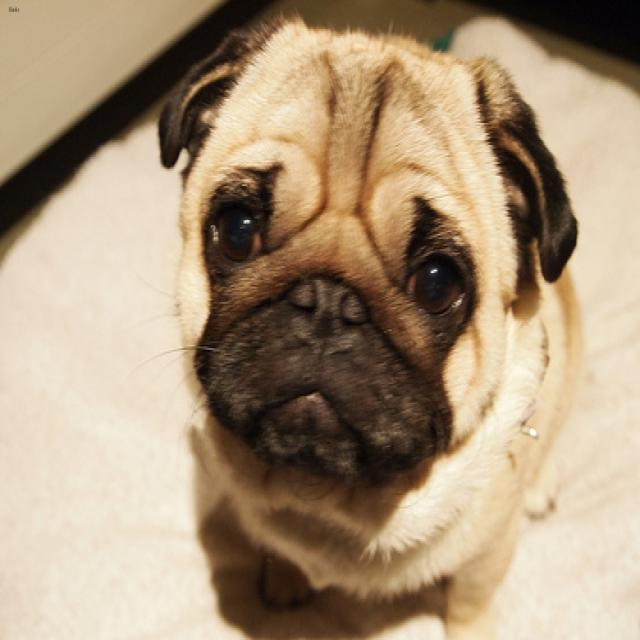dog-pug: (145, 7, 603, 637)
